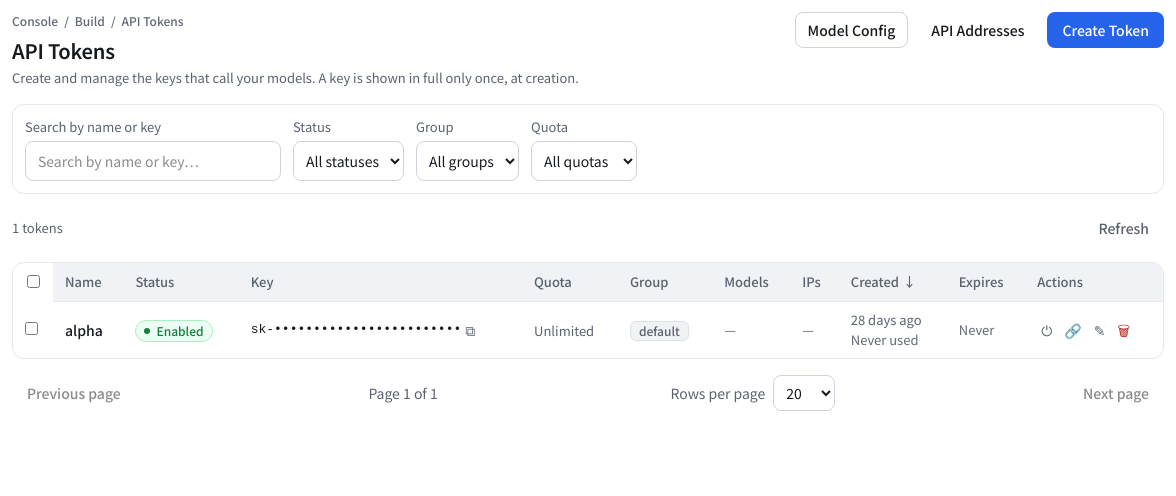
TokenListPage › shows copy-key guidance instead of writing the masked key to the clipboard
Check: the text "alpha" is shown, box top-left (53, 301), bottom-right (123, 358)
Click the button named "Copy key for alpha" at (470,330), box top-left (465, 318), bottom-right (475, 340)
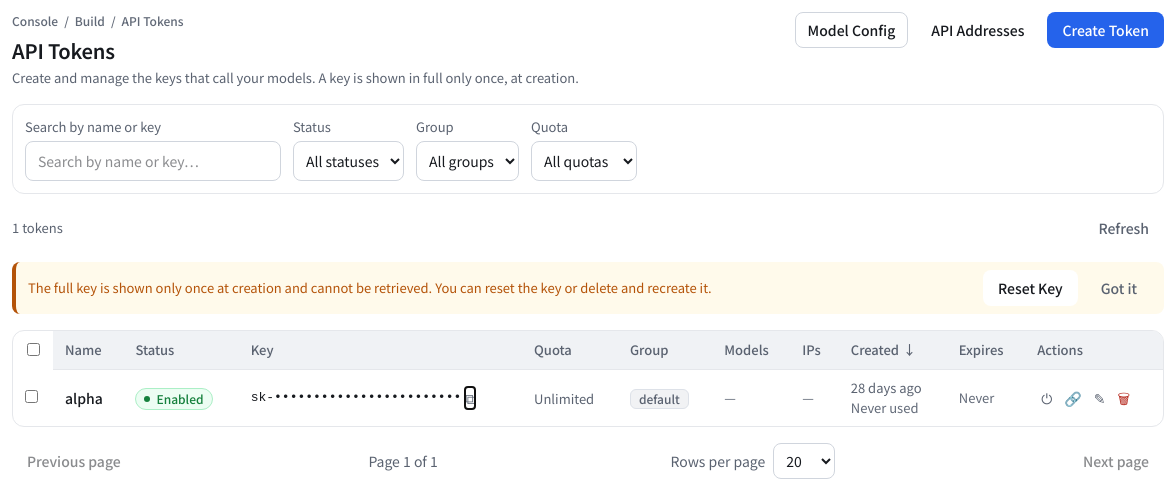
Check: the message is shown, box top-left (12, 262), bottom-right (1164, 314)
Check: the text "The full key is shown only once at creation" is shown, box top-left (28, 278), bottom-right (712, 297)
